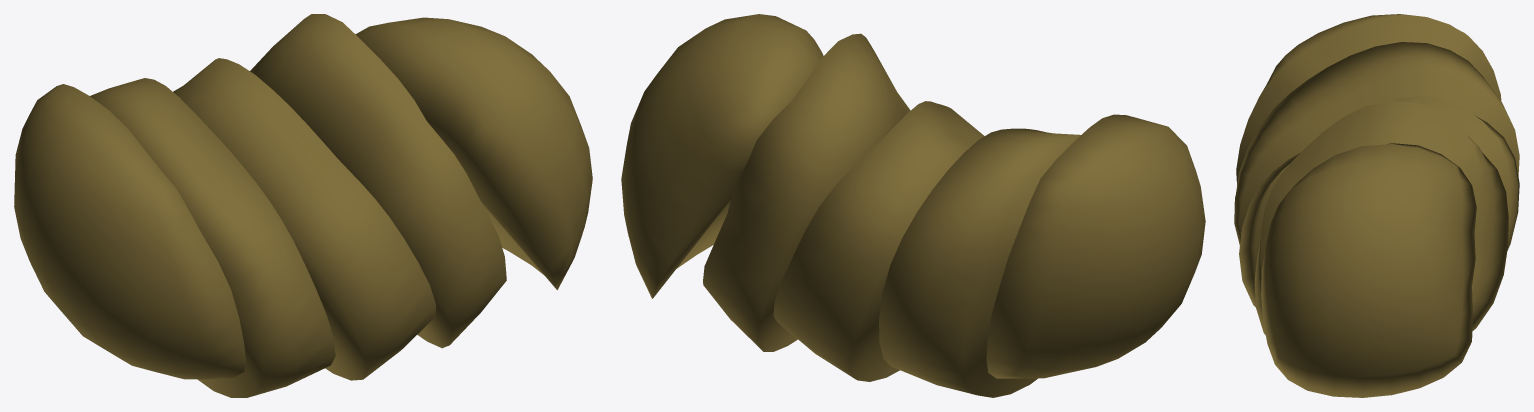
Rendered from Potato cut.fbx.
3 views of the same model, side by side, from view 1: azimuth 30°, elevation 25°; view 2: azimuth 150°, elevation 25°; view 3: azimuth 270°, elevation 25° (orthographic). The views are drawn at different scales.
Parts seen in each view (by area): view 1: Potato cut joined; view 2: Potato cut joined; view 3: Potato cut joined.
Boxes of the visible parts, x1=… form: Potato cut joined: x1=14, y1=14, x2=592, y2=397; Potato cut joined: x1=621, y1=14, x2=1205, y2=397; Potato cut joined: x1=1234, y1=14, x2=1519, y2=397.
Size of the model in its own units: 105 by 59.69 by 58.94.
